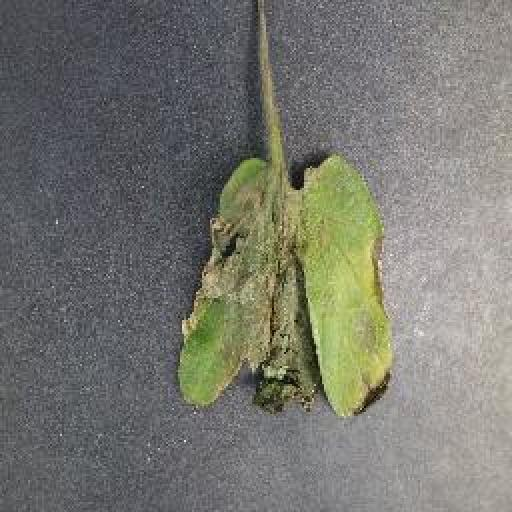disease_tomato: (180, 156, 396, 423)
